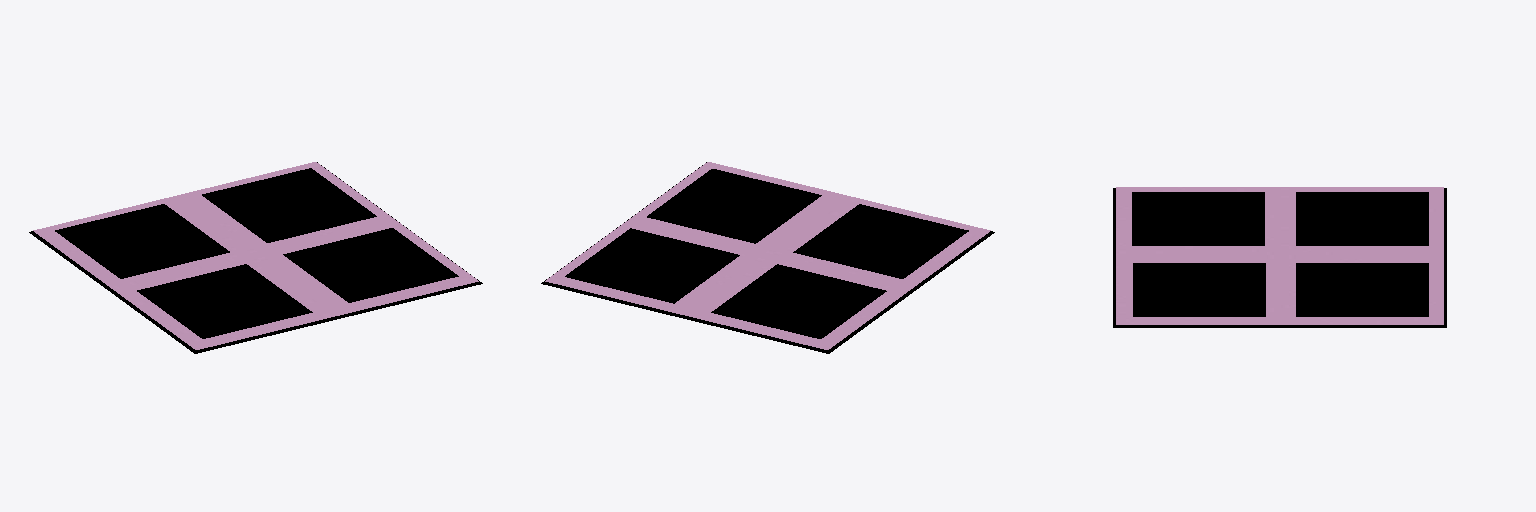
3 views of the same model, side by side, from view 1: azimuth 30°, elevation 25°; view 2: azimuth 150°, elevation 25°; view 3: azimuth 270°, elevation 25° (orthographic).
Parts seen in each view (by area): view 1: pPlane1, pPlane7, pPlane11, pPlane13, pPlane12, pPlane6; view 2: pPlane1, pPlane12, pPlane7, pPlane11, pPlane13, pPlane6; view 3: pPlane1, pPlane7, pPlane11, pPlane12, pPlane13, pPlane6.
Boxes of the visible parts, <box> form: pPlane1: <box>33,162,478,349</box>; pPlane7: <box>283,228,458,302</box>; pPlane11: <box>202,168,376,242</box>; pPlane13: <box>137,264,312,338</box>; pPlane12: <box>55,204,229,278</box>; pPlane6: <box>29,162,482,353</box>; pPlane1: <box>545,162,990,349</box>; pPlane12: <box>711,264,886,338</box>; pPlane7: <box>647,169,821,243</box>; pPlane11: <box>565,228,739,303</box>; pPlane13: <box>793,204,968,278</box>; pPlane6: <box>541,162,994,353</box>; pPlane1: <box>1116,187,1443,324</box>; pPlane7: <box>1133,263,1265,316</box>; pPlane11: <box>1296,263,1428,316</box>; pPlane12: <box>1296,192,1428,245</box>; pPlane13: <box>1132,192,1264,245</box>; pPlane6: <box>1113,188,1446,327</box>.
Size of the model in its own units: 1.02 by 0.0135 by 1.02.
Materials: 3 (1 with a texture image).